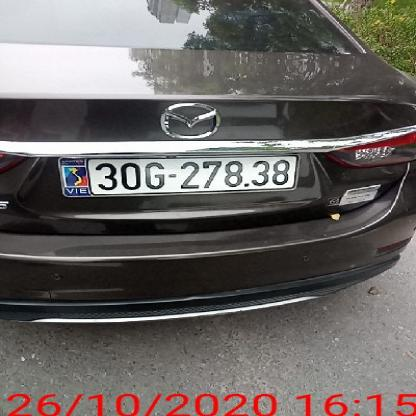biensoxe: (59, 151, 302, 195)
